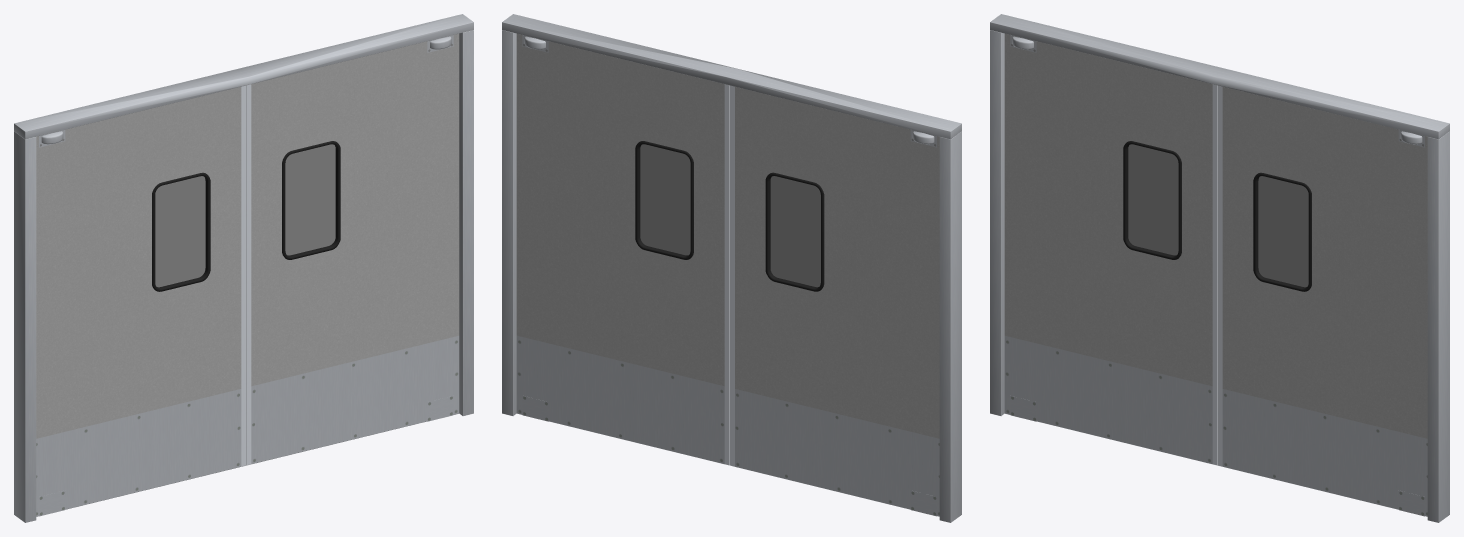
File: DoorDouble03.FBX
The picture shows the model from 3 angles, left to right: view 1: azimuth 30°, elevation 25°; view 2: azimuth 150°, elevation 25°; view 3: azimuth 330°, elevation 25°; orthographic projection.
Visible parts, largest first — view 1: Door, DoorL, Frame; view 2: Door, DoorL, Frame; view 3: DoorL, Door, Frame.
Part boxes in pixels (x1,y1,x2,y2): Door: (246, 33, 459, 465); DoorL: (36, 85, 245, 516); Frame: (14, 14, 473, 522); Door: (516, 33, 729, 465); DoorL: (730, 85, 939, 516); Frame: (502, 14, 961, 522); DoorL: (1004, 33, 1217, 465); Door: (1218, 85, 1427, 516); Frame: (990, 14, 1449, 522).
Size of the model in its own units: 300 by 250 by 13.96.
